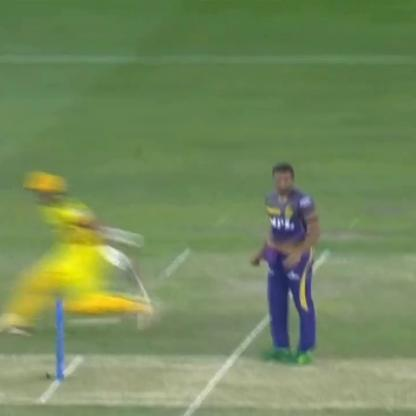bat: (107, 233, 162, 331)
pitch: (2, 351, 414, 413)
